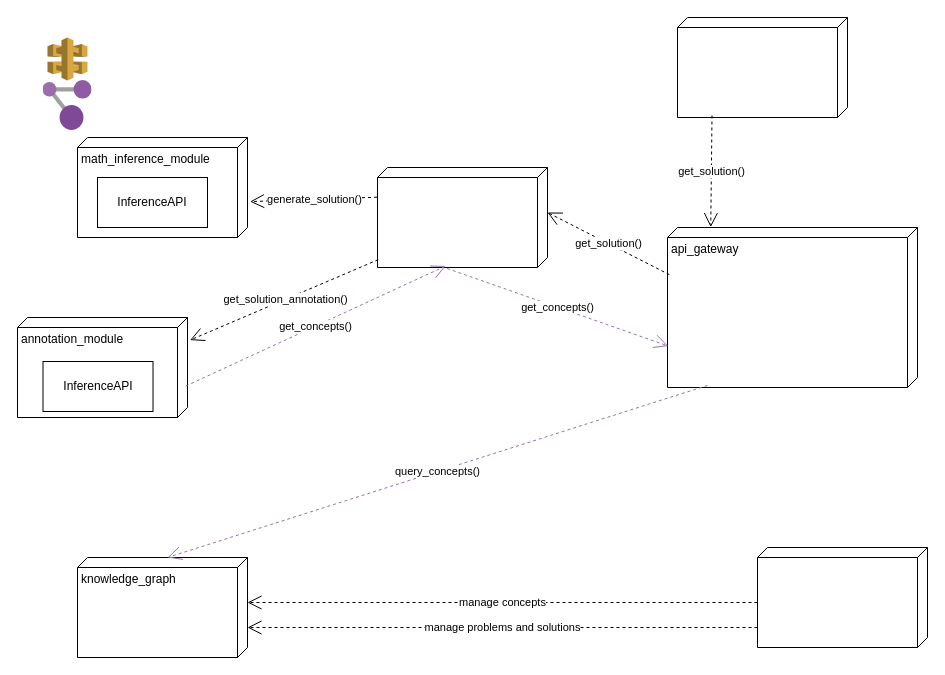
Some shapes in this 945 by 675 pixel diagram are drawn without their labels. The shapes that lost their labels are listed below. From the top down, each one's centre as x and y in pixels, then its label:
At (762,67): "user_interface".
At (462,217): "solution_engine".
At (842,597): "administration_module".
